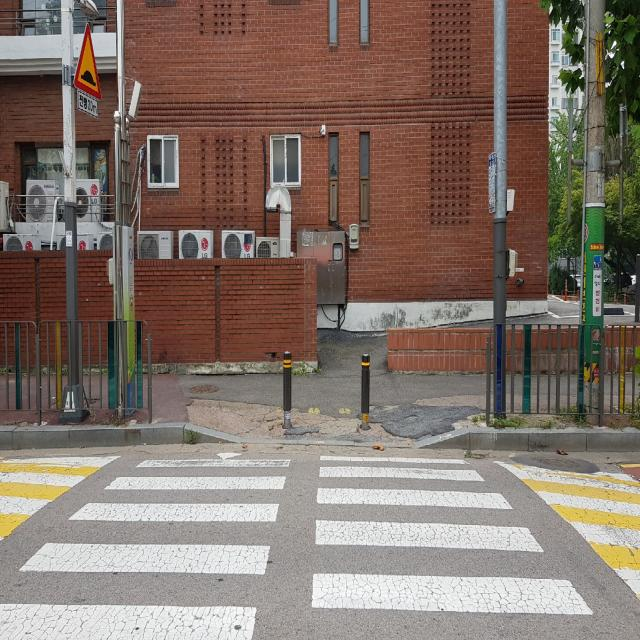횡단보도: (0, 450, 593, 640)
